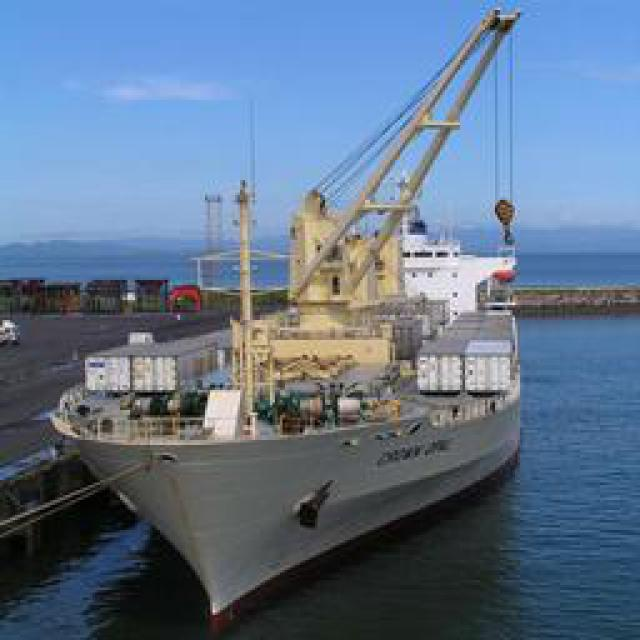Ship: (55, 98, 530, 616)
